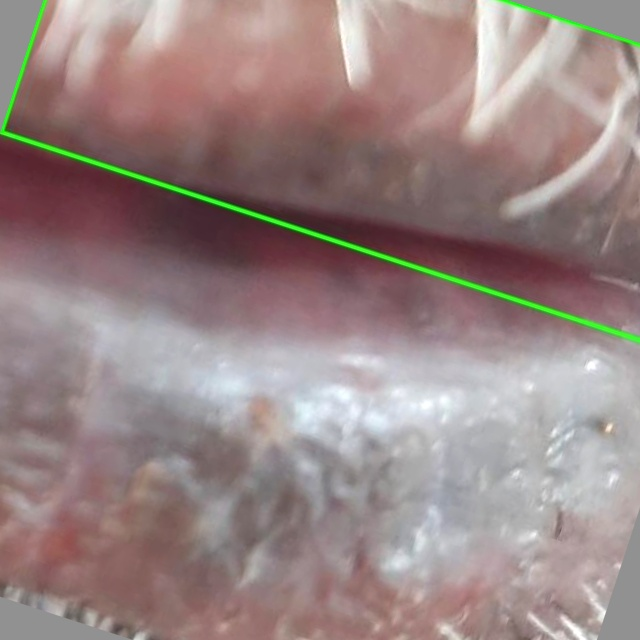Contact Dermatitis: (1, 0, 639, 339)
